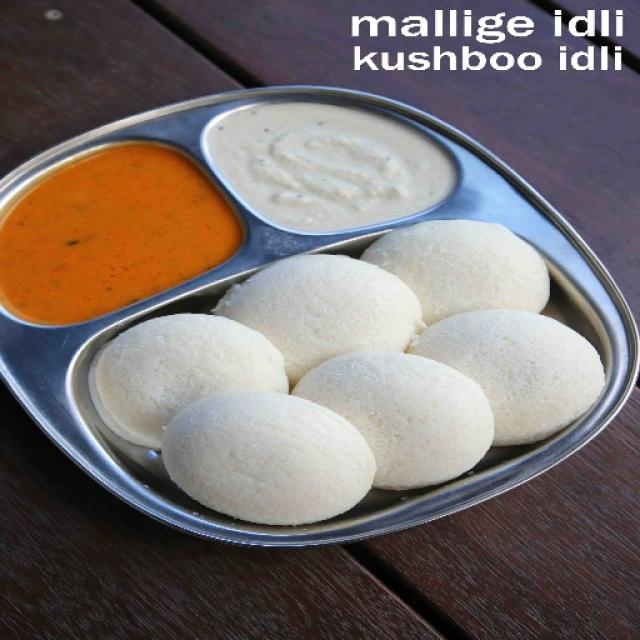IDLI: (89, 220, 604, 524)
SAMBAR: (0, 144, 242, 324)
WHITE CHUTNEY: (202, 105, 454, 232)
